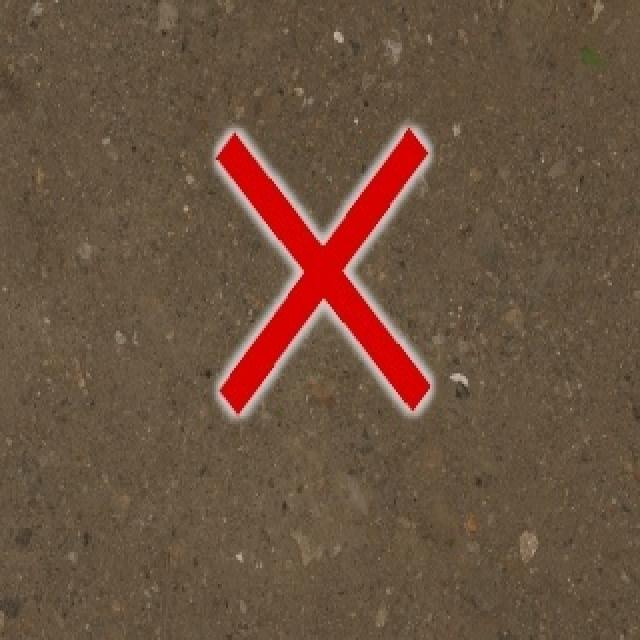x_marker: (217, 129, 429, 412)
